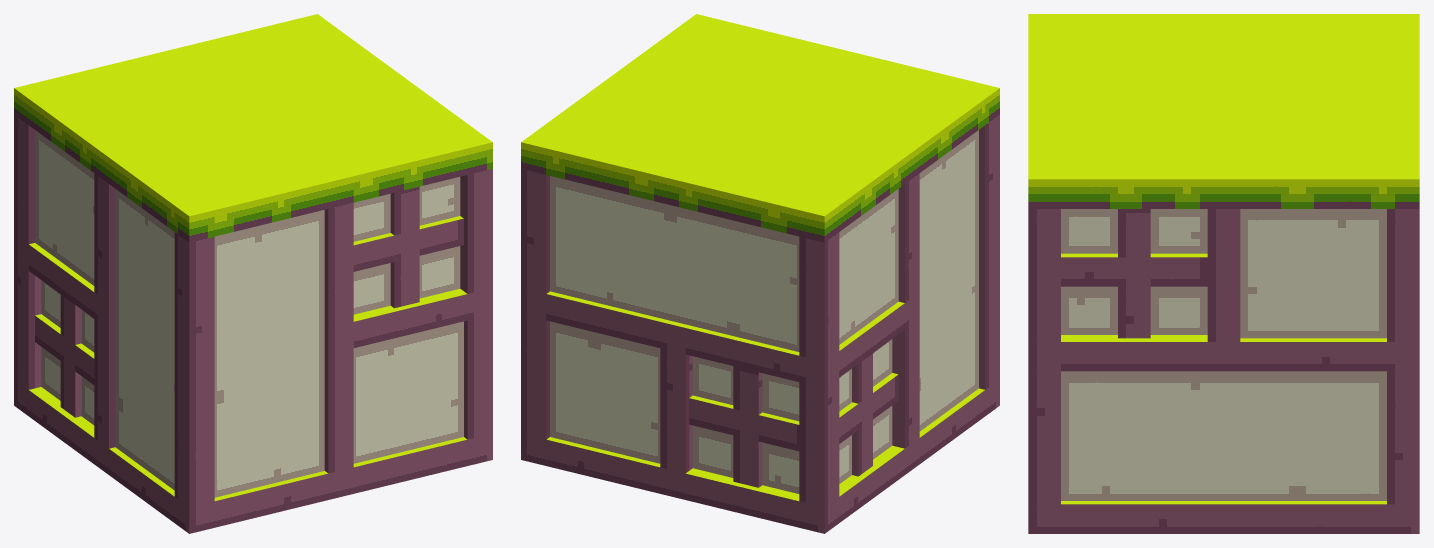
Rendered from windmill_core_aao.fezao.glb.
The picture shows the model from 3 angles, left to right: view 1: azimuth 30°, elevation 25°; view 2: azimuth 150°, elevation 25°; view 3: azimuth 270°, elevation 25°; orthographic projection. The views are drawn at different scales.
Parts seen in each view (by area): view 1: WINDMILL_CORE_AAO; view 2: WINDMILL_CORE_AAO; view 3: WINDMILL_CORE_AAO.
Part boxes in pixels (bbox=[...]): WINDMILL_CORE_AAO: bbox=[14, 14, 492, 533]; WINDMILL_CORE_AAO: bbox=[521, 14, 999, 533]; WINDMILL_CORE_AAO: bbox=[1028, 14, 1419, 533].
Bounding box in the file's own units: 3 × 3 × 3.
Materials: 1 (1 with a texture image).
